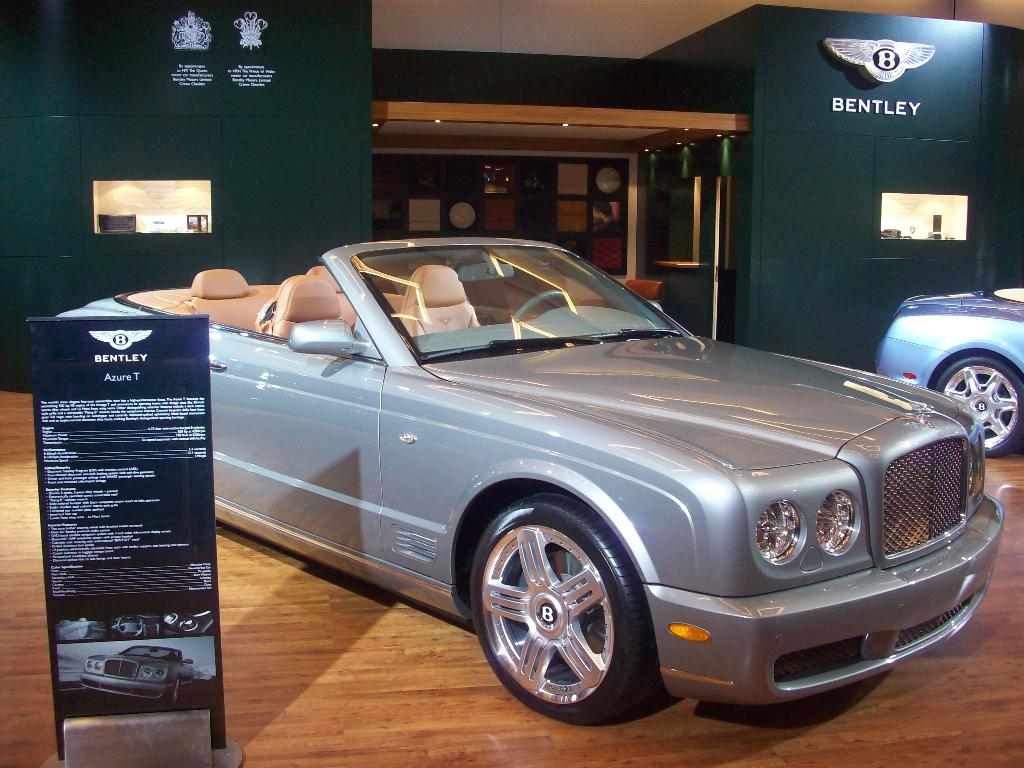car: (51, 233, 1009, 732), (877, 270, 1024, 452)
